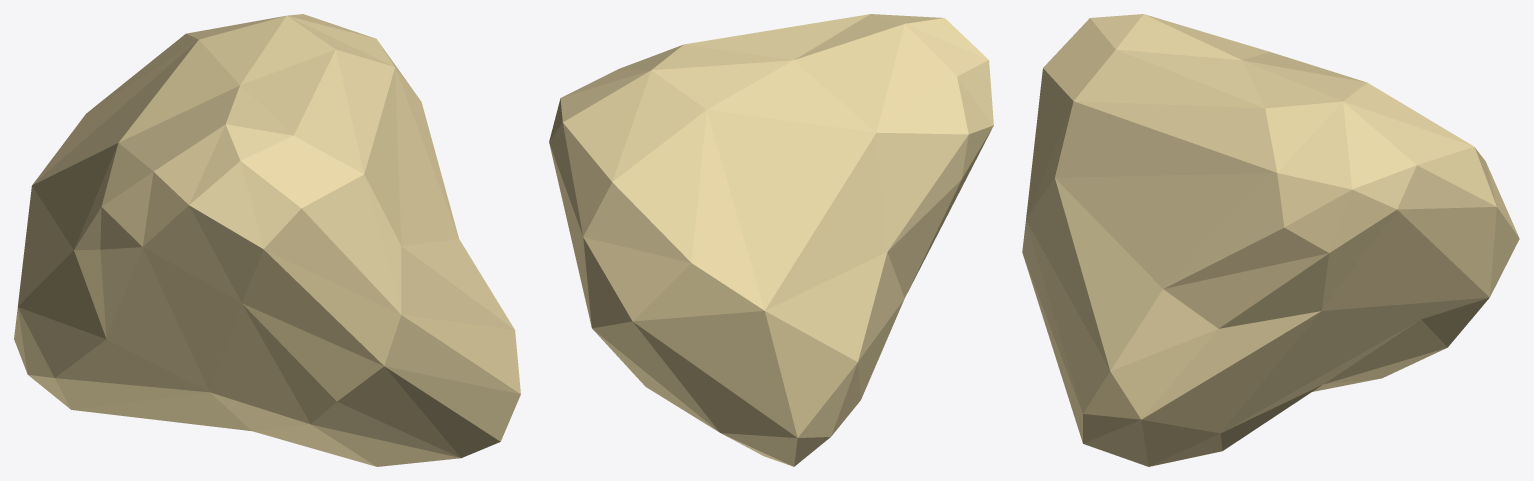
The model's file is Rock (16).fbx.
The picture shows the model from 3 angles, left to right: view 1: azimuth 30°, elevation 25°; view 2: azimuth 150°, elevation 25°; view 3: azimuth 270°, elevation 25°; orthographic projection. The views are drawn at different scales.
Visible parts, largest first — view 1: Asteroid15; view 2: Asteroid15; view 3: Asteroid15.
Part boxes in pixels (x1=…): Asteroid15: x1=14, y1=14, x2=520, y2=466; Asteroid15: x1=549, y1=14, x2=993, y2=466; Asteroid15: x1=1022, y1=14, x2=1519, y2=466.
Bounding box in the file's own units: 150 × 148 × 185.
